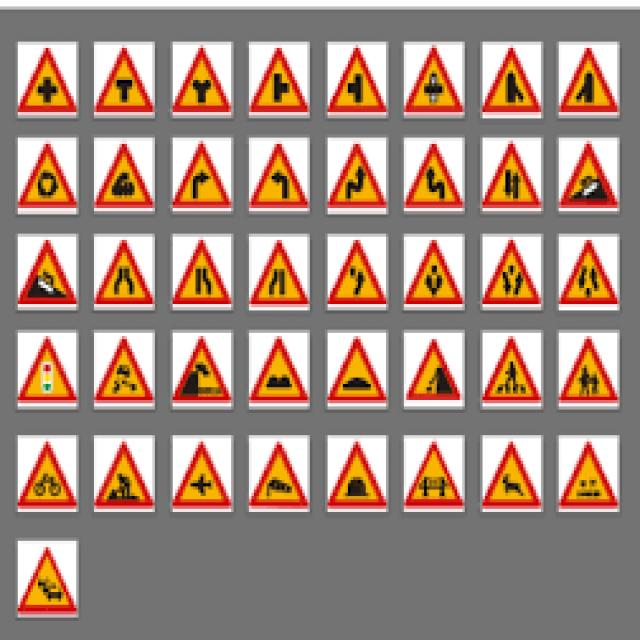Airplanes: (174, 438, 232, 512)
Beginning_of_center_divider: (482, 237, 542, 307)
Bicycles: (18, 439, 77, 511)
Both_ways: (482, 140, 542, 210)
Curve_to_right: (171, 138, 233, 212)
Curving_left: (249, 140, 309, 211)
Danger: (558, 440, 620, 510)
Double_curve_left: (403, 140, 464, 211)
Double_curve_right: (328, 139, 388, 215)
Downward_slope: (17, 238, 78, 304)
Drive_both_sides: (404, 239, 462, 306)
Drive_to_the_right: (328, 239, 386, 304)
End_of_center_divider_side: (558, 238, 618, 306)
Falling_rocks: (404, 336, 464, 403)
Four-way_intersection: (17, 45, 78, 116)
Left_lane_is_merged: (250, 237, 308, 305)
Merge_left: (481, 42, 542, 118)
Merge_right: (558, 45, 620, 117)
Narrow_road_ahead: (93, 237, 156, 306)
Pedestrian_crossing: (483, 334, 541, 404)
Prionity: (403, 44, 464, 117)
Railroad_crossing: (93, 139, 156, 211)
Right_lane_is_merged: (172, 236, 234, 305)
Riverside_drive: (173, 332, 232, 405)
Road_construction: (94, 441, 154, 510)
Rough_road_condition: (250, 333, 307, 405)
Roundabout: (16, 139, 79, 214)
Safety_for_children: (559, 334, 618, 406)
Safety_for_wild_animals: (484, 439, 542, 512)
Slippery_road: (94, 336, 153, 404)
Speed_bump_ahead: (328, 334, 387, 406)
T-shaped_intersection: (93, 45, 154, 116)
Traffic_signal: (18, 335, 76, 404)
Tree-way_intersection_left: (326, 43, 389, 115)
Tree-way_intersection_right: (248, 45, 310, 114)
Tunnel: (327, 438, 388, 513)
Upward_slope: (559, 140, 619, 210)
Wind: (248, 436, 310, 512)
Y-shaped_intersection: (171, 44, 234, 116)
